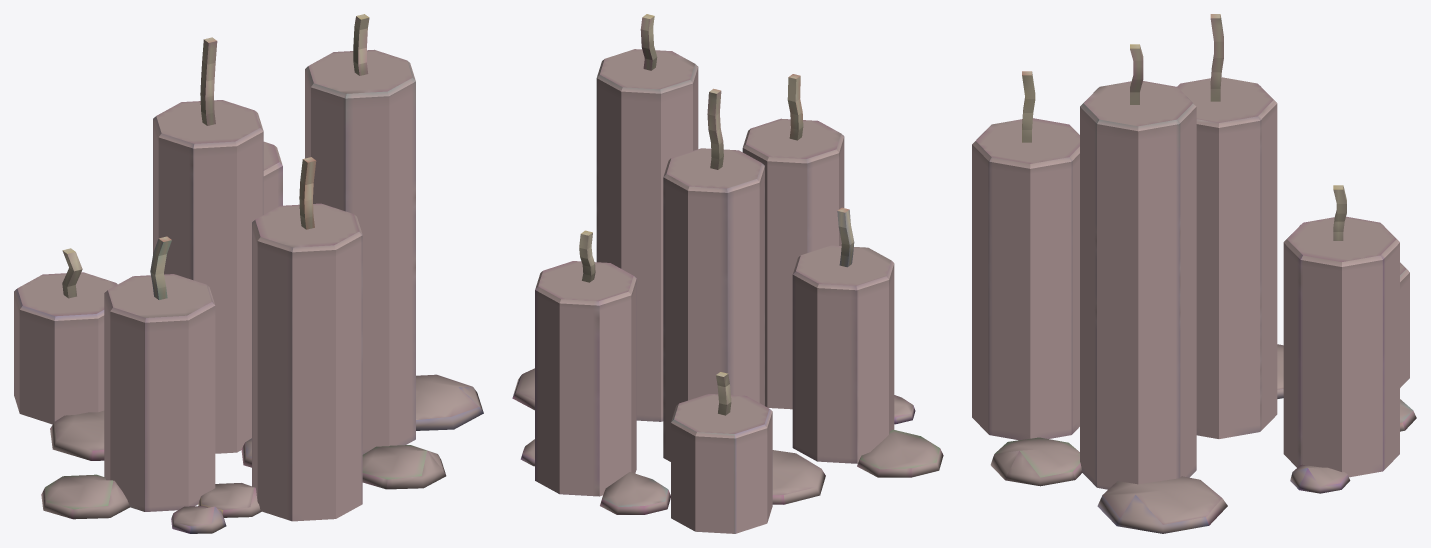
File: ConjuntoVelas.fbx
3 renders of one model, left to right at view 1: azimuth 30°, elevation 25°; view 2: azimuth 150°, elevation 25°; view 3: azimuth 270°, elevation 25°, orthographic. The views are drawn at different scales.
Visible parts, largest first — view 1: Vela conjunto 1; view 2: Vela conjunto 1; view 3: Vela conjunto 1.
Boxes of the visible parts, left/top/right/bottom form: Vela conjunto 1: left=14, top=14, right=483, bottom=533; Vela conjunto 1: left=512, top=14, right=943, bottom=533; Vela conjunto 1: left=972, top=14, right=1416, bottom=533.
Size of the model in its own units: 33.92 by 30.34 by 28.78.
1 material, 1 textured.
